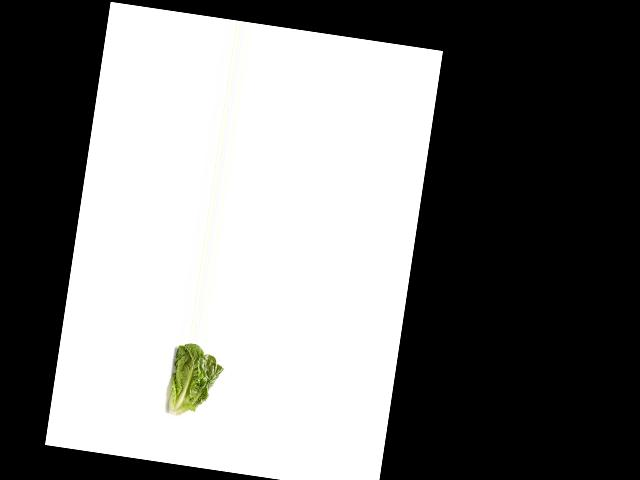lettuce: (154, 339, 226, 424)
